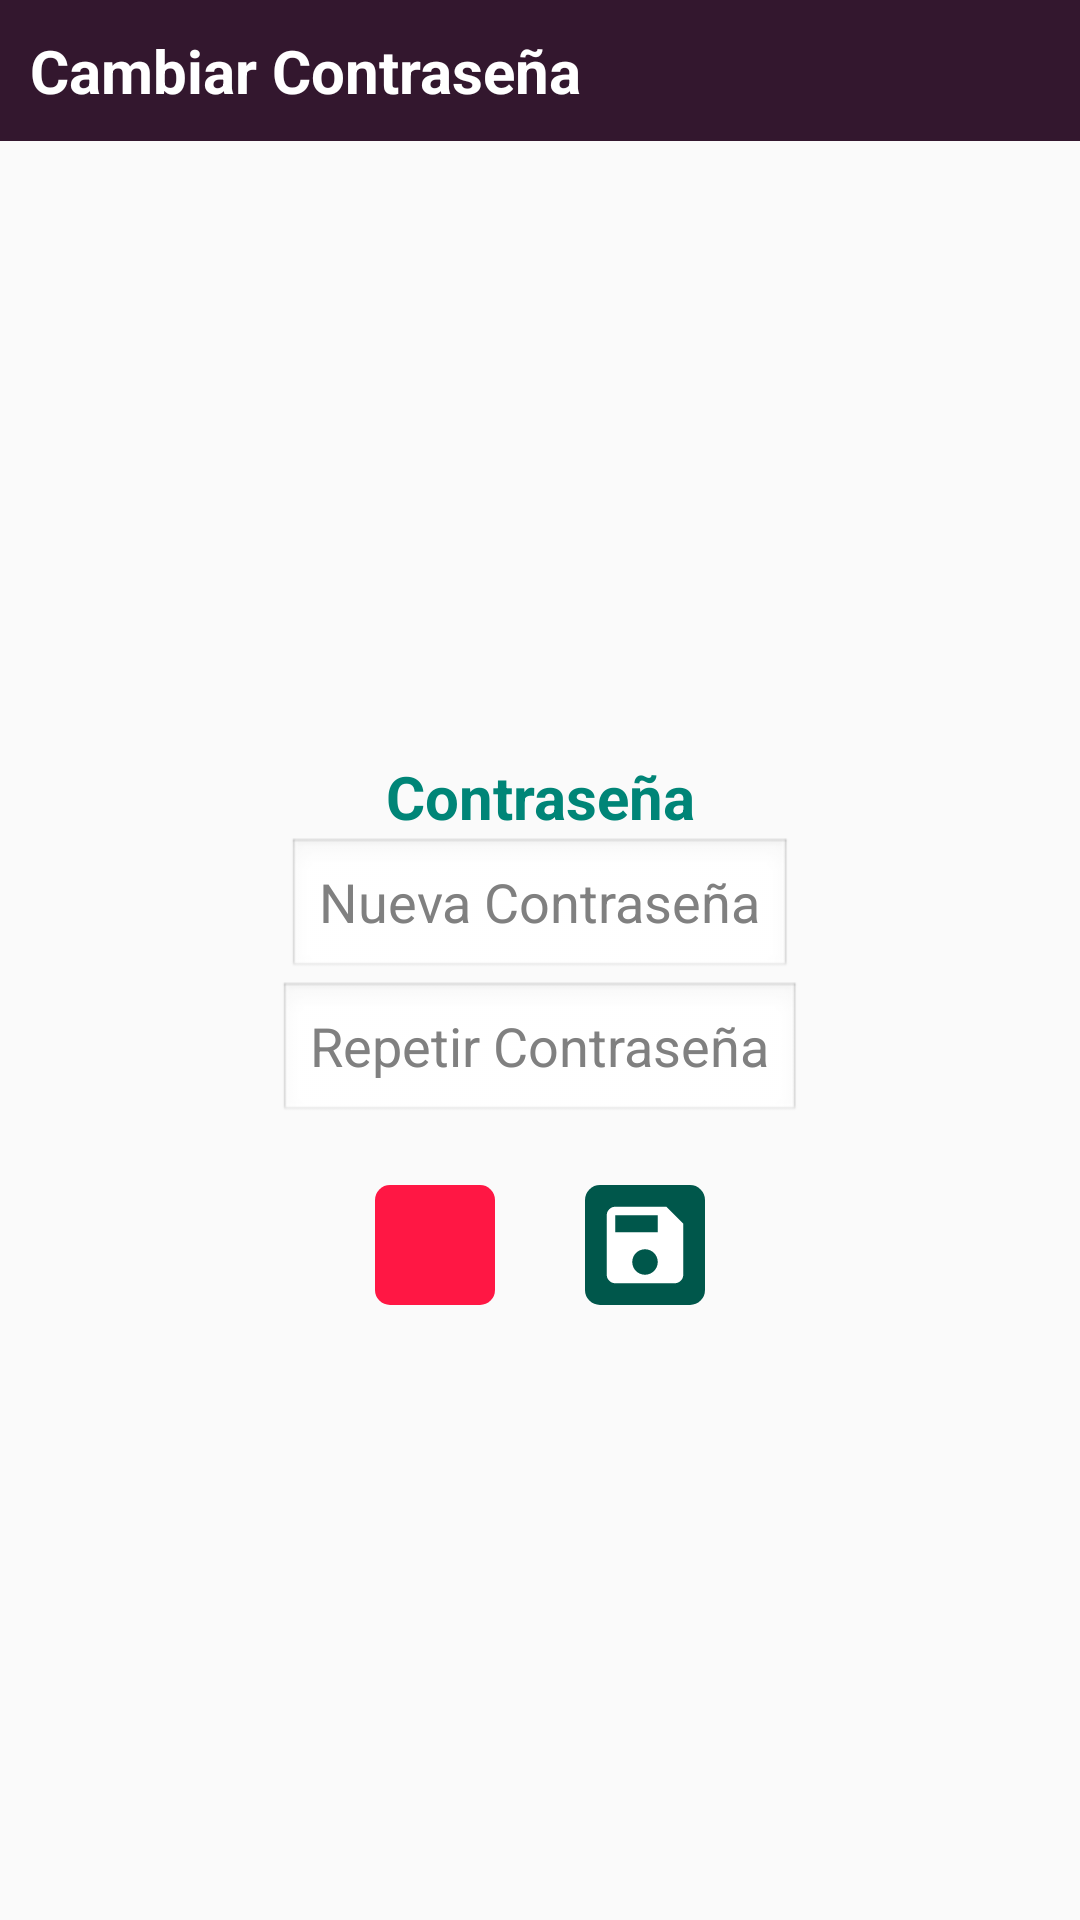

Screen size 1080 x 1920. Icon name, then its box in pixels as region(x1, y1, x2, y2):
save: region(585, 1185, 705, 1305)
